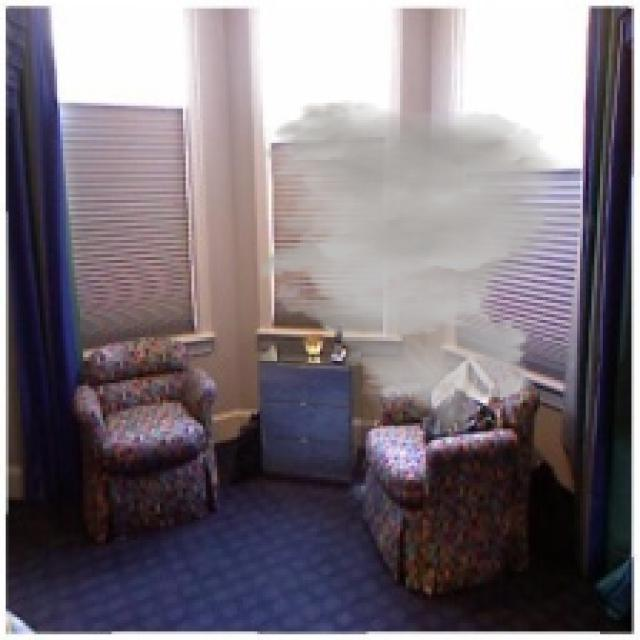Smoke: (257, 100, 603, 443)
